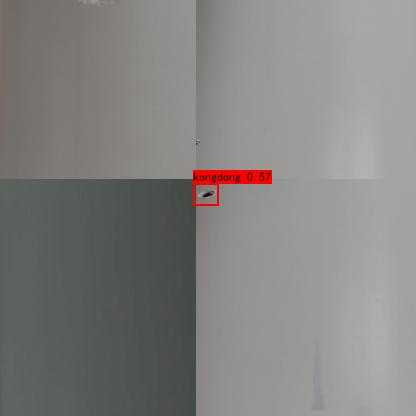kongdong: (199, 185, 221, 204)
